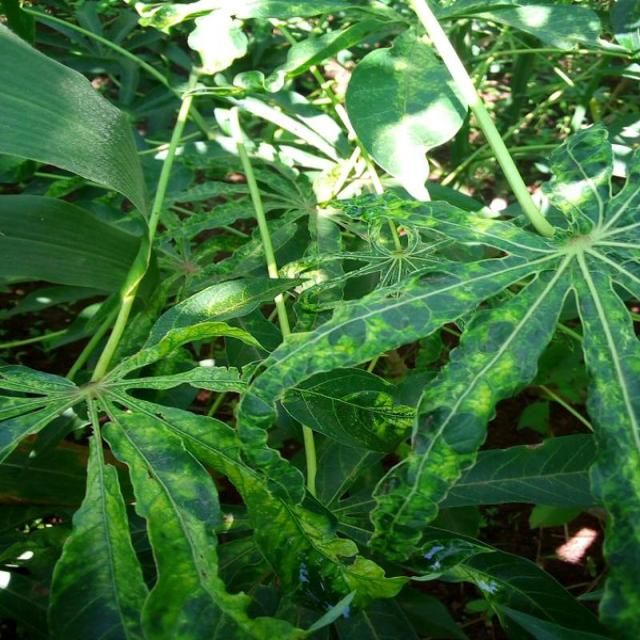cassava leaf: (237, 126, 638, 635), (0, 21, 150, 229), (344, 32, 468, 202)
